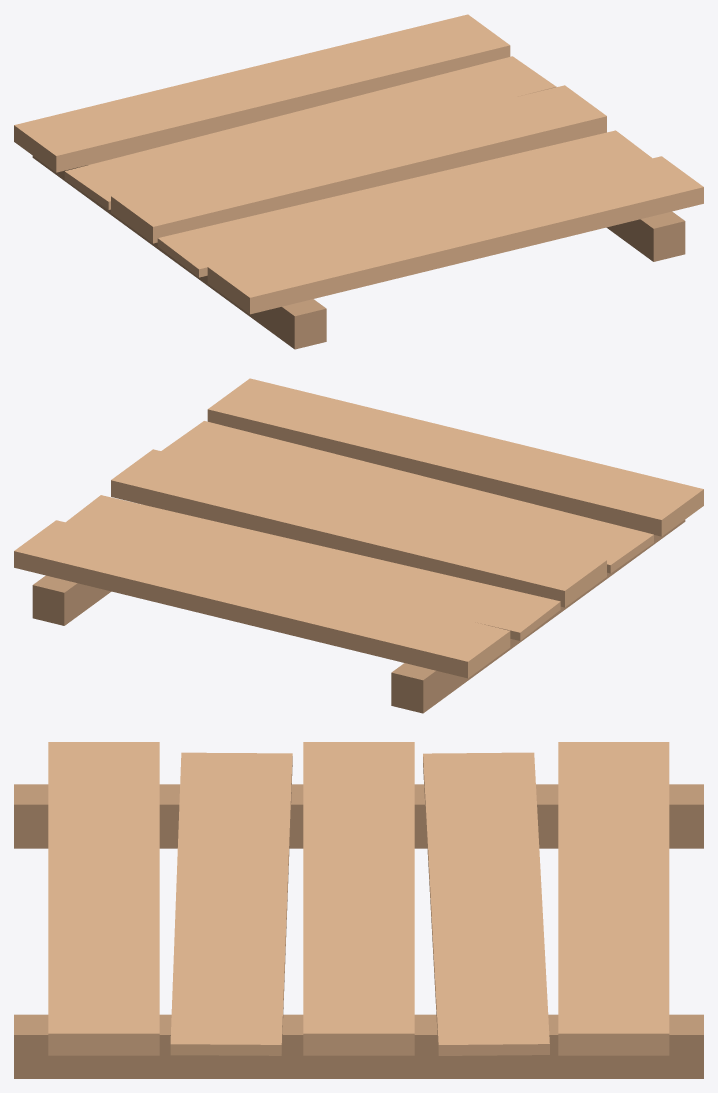
The model's file is platform.glb.
The picture shows the model from 3 angles, top to bottom: view 1: azimuth 30°, elevation 25°; view 2: azimuth 150°, elevation 25°; view 3: azimuth 270°, elevation 25°; orthographic projection. The views are drawn at different scales.
Parts seen in each view (by area): view 1: platform(Clone); view 2: platform(Clone); view 3: platform(Clone).
Part boxes in pixels (bbox=[...]): platform(Clone): bbox=[14, 14, 703, 349]; platform(Clone): bbox=[14, 378, 703, 713]; platform(Clone): bbox=[14, 742, 703, 1078].
Size of the model in its own units: 1 by 0.105 by 1.
